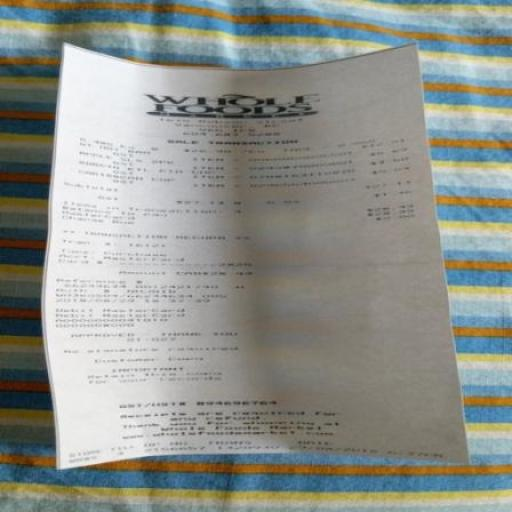paper: (12, 25, 484, 512)
